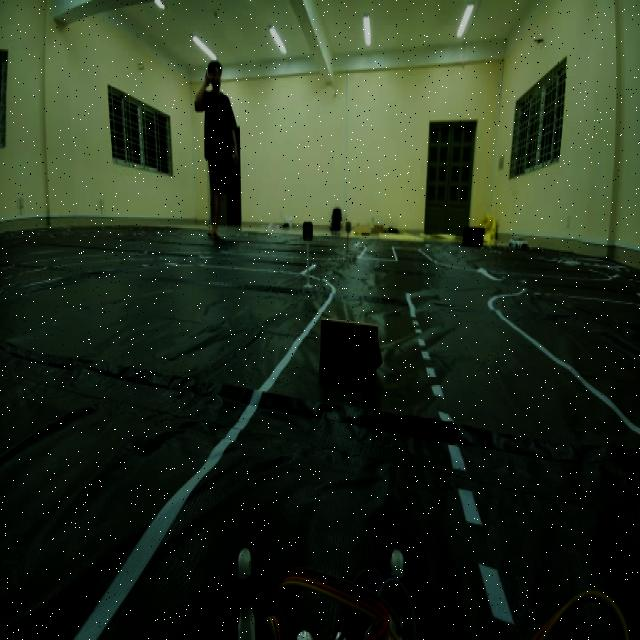roadblock: (312, 304, 392, 406)
